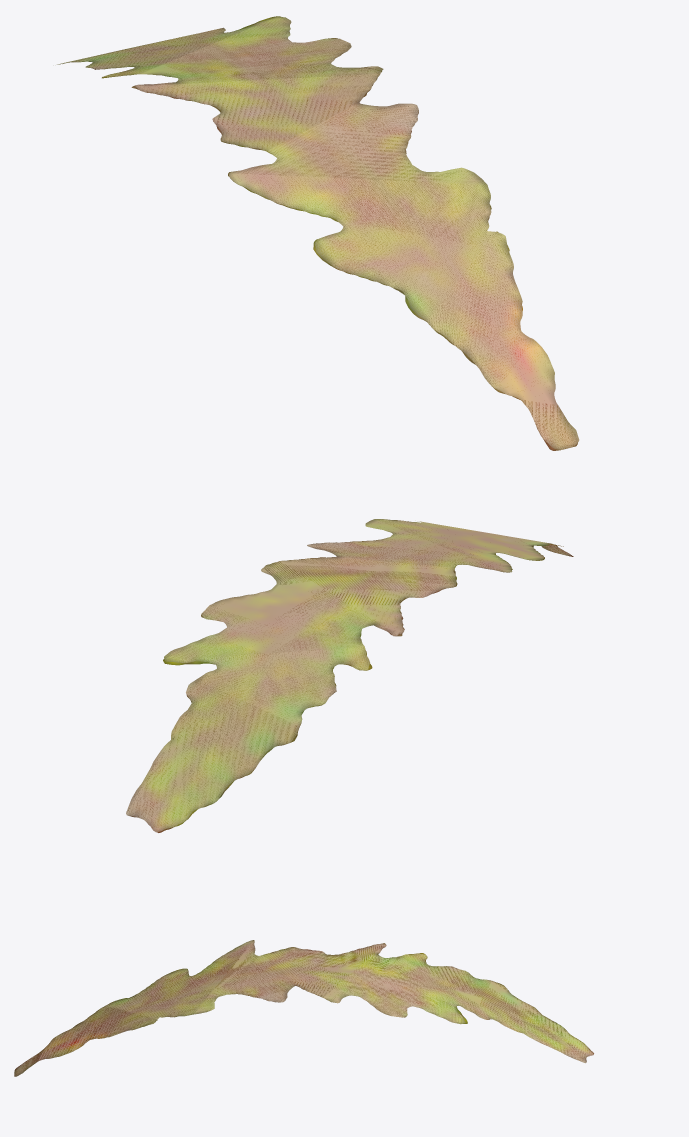
The model's file is Spindlewit Leaf A.fbx.
3 renders of one model, top to bottom at view 1: azimuth 30°, elevation 25°; view 2: azimuth 150°, elevation 25°; view 3: azimuth 270°, elevation 25°, orthographic. The views are drawn at different scales.
Parts seen in each view (by area): view 1: Spindlewit Leaf A; view 2: Spindlewit Leaf A; view 3: Spindlewit Leaf A.
Part boxes in pixels (x1=…): Spindlewit Leaf A: x1=57, y1=16, x2=579, y2=450; Spindlewit Leaf A: x1=126, y1=519, x2=573, y2=832; Spindlewit Leaf A: x1=14, y1=940, x2=593, y2=1076.
Bounding box in the file's own units: 19.78 × 15.22 × 76.15.
